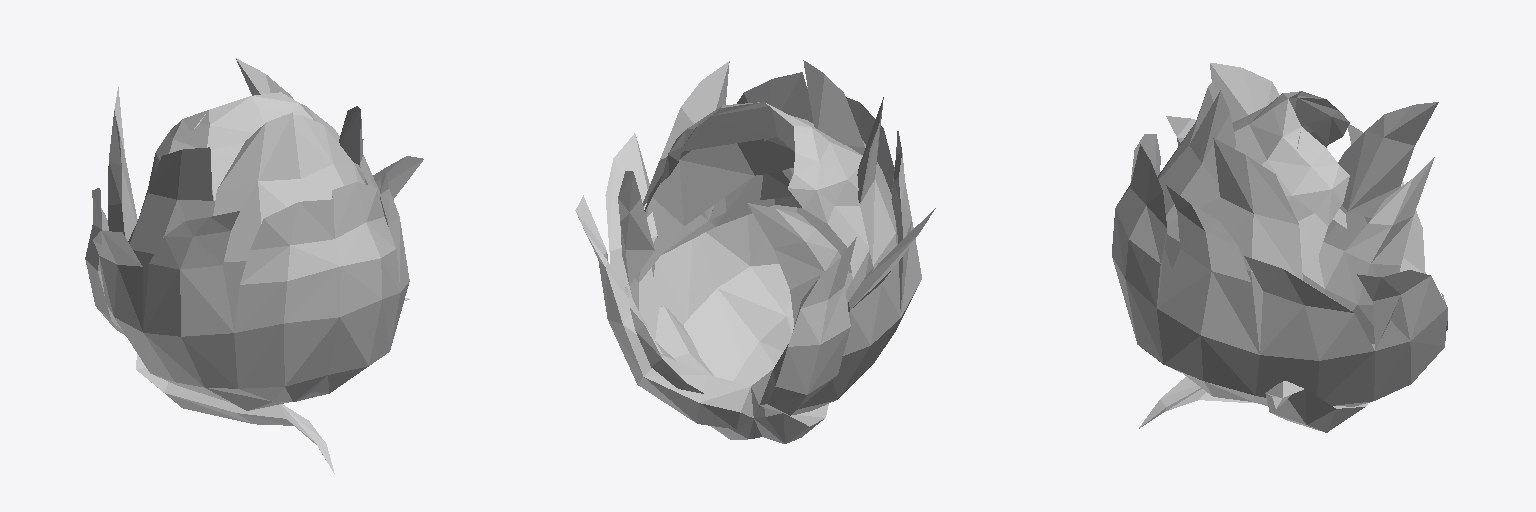
Rendered from cha003_00_a.obj.
3 renders of one model, left to right at view 1: azimuth 30°, elevation 25°; view 2: azimuth 150°, elevation 25°; view 3: azimuth 270°, elevation 25°, orthographic.
Visible parts, largest first — view 1: unnamed.002; view 2: unnamed.002; view 3: unnamed.002.
Part boxes in pixels (bbox=[...]): unnamed.002: bbox=[85, 58, 423, 473]; unnamed.002: bbox=[575, 60, 935, 443]; unnamed.002: bbox=[1112, 63, 1447, 432].
Size of the model in its own units: 0.3069 by 0.3248 by 0.2918.